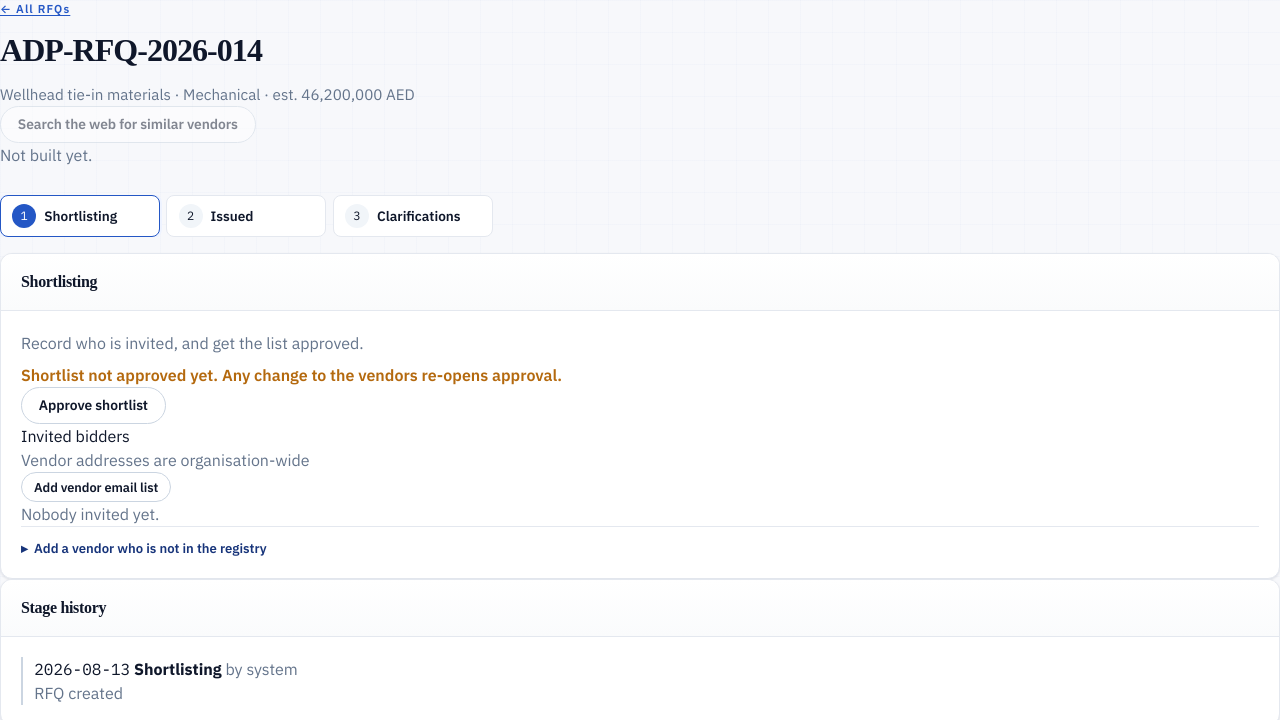
RfqWizard › promises the eligibility checklist on Issued and no TBE template anywhere
Step 1. Click the button "2 Issued" → point(246, 216), box [166, 195, 326, 237]
(page scrolled)
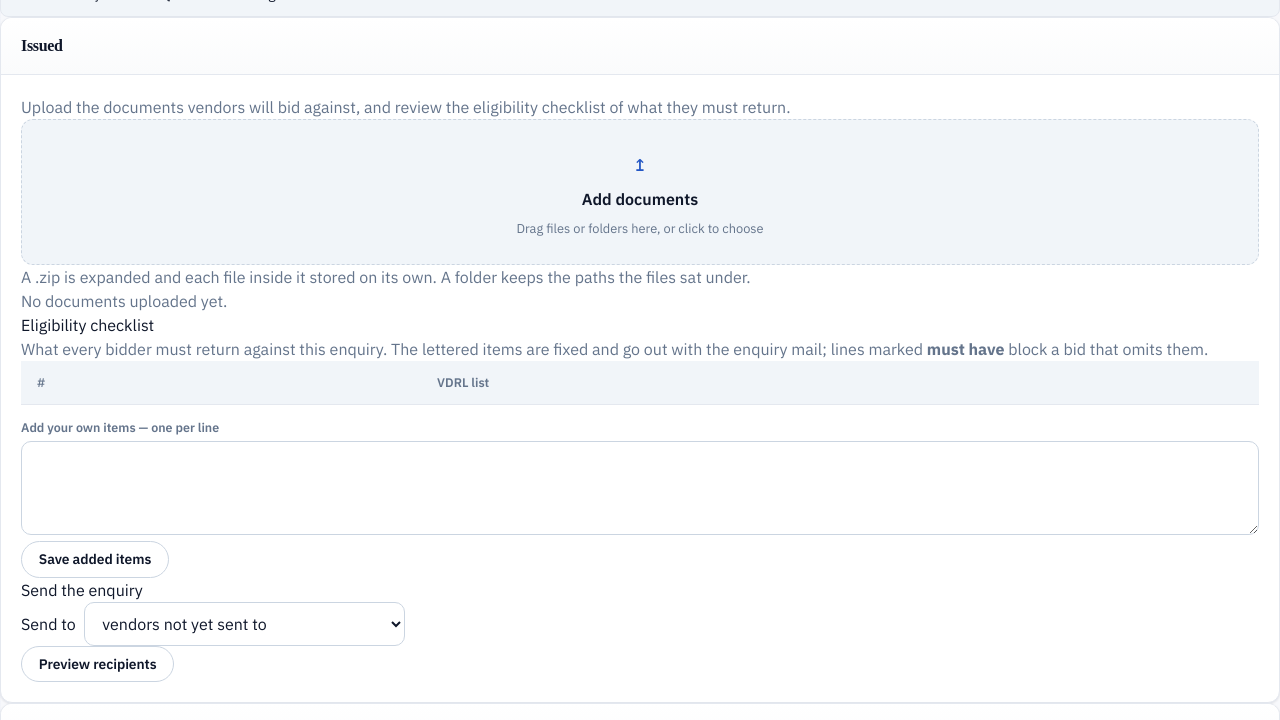
Check: the element "Issued" shows "eligibility checklist", box [21, 315, 154, 335]
